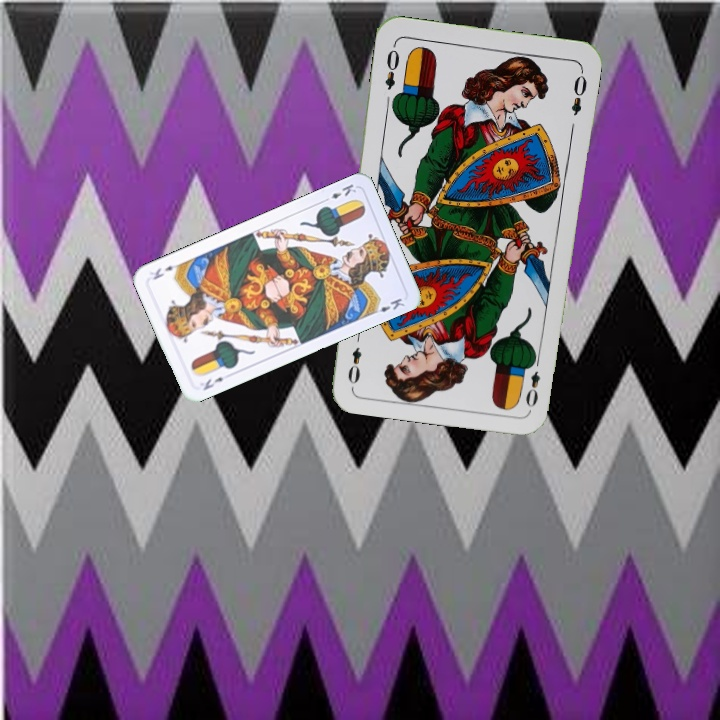EK: (319, 180, 359, 205), (199, 373, 226, 393)
EO: (522, 352, 543, 410), (381, 40, 402, 92)
